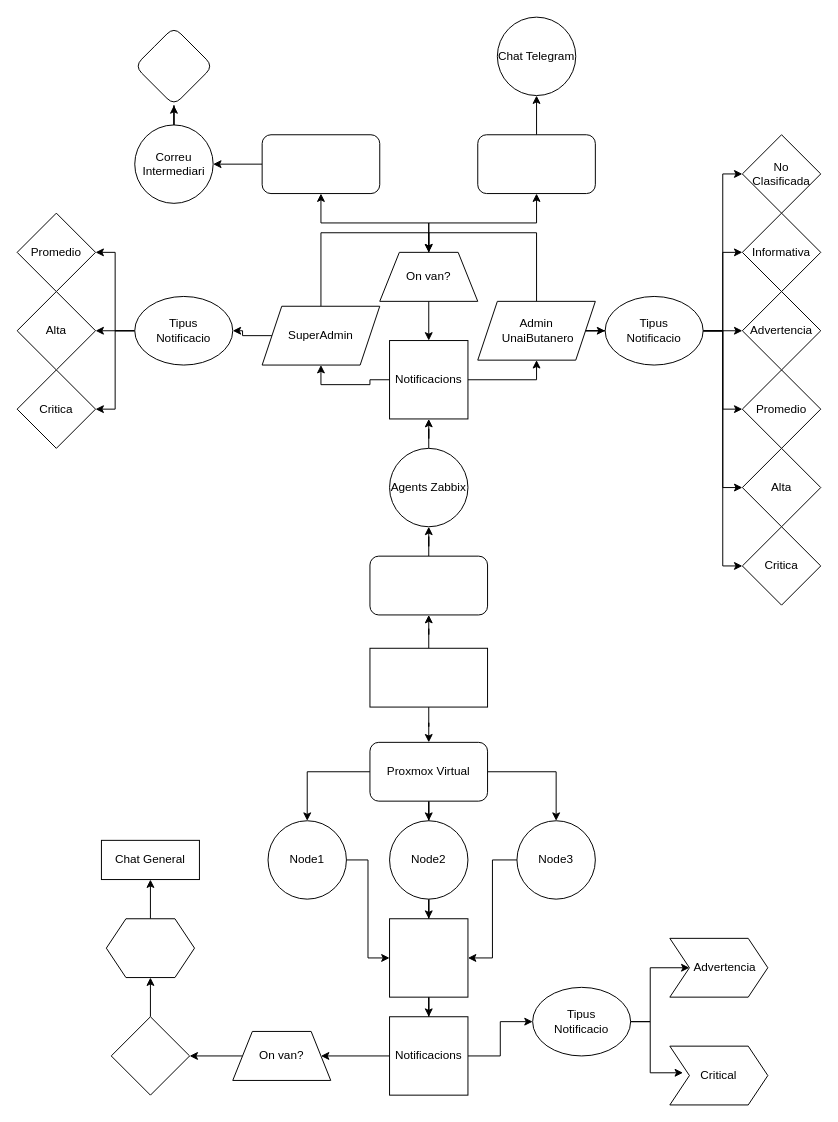
This 838x1122 diagram has some shape labels left out. Each missing label, with the box of its shape:
Correu Personal: (134, 26, 213, 105)
Discord Server: (105, 918, 195, 978)
Discord Webhook: (110, 1016, 190, 1095)
Gmail Server: (261, 134, 380, 194)
NetData: (389, 918, 468, 997)
Proxmox: (369, 647, 488, 707)
Telegram Webhook Bot: (477, 134, 595, 194)
Zabbix: (369, 555, 488, 615)
